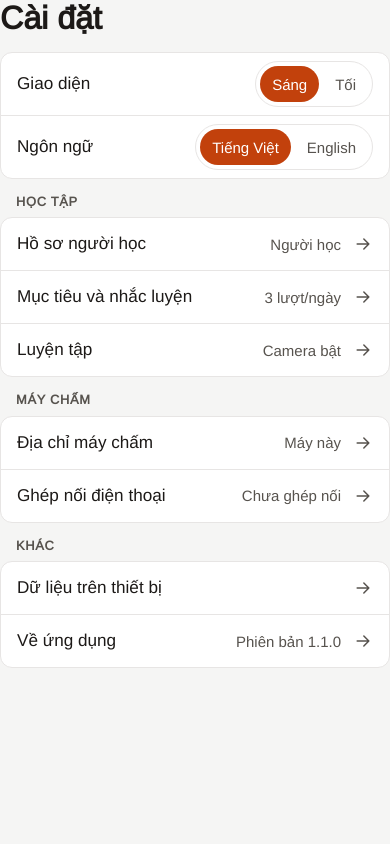
SettingsScreen › switches the theme, saves the server address and reports the check
Click the tab "Tối" at (346, 84), box 323,66 -> 368,102
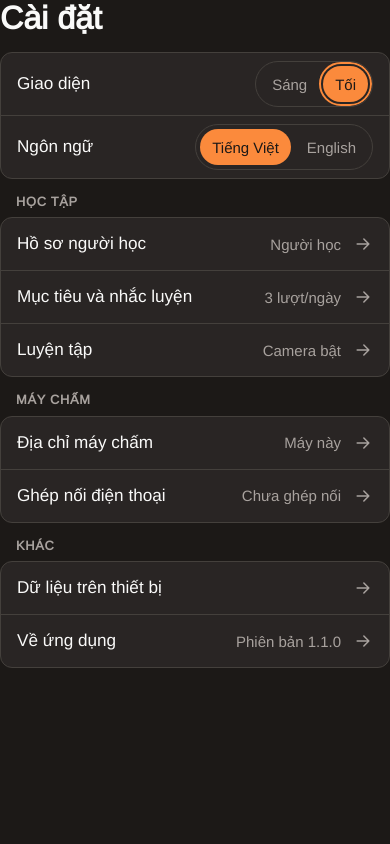
Click the button "Địa chỉ máy chấm Máy này" at (85, 442), box 1,417 -> 389,469
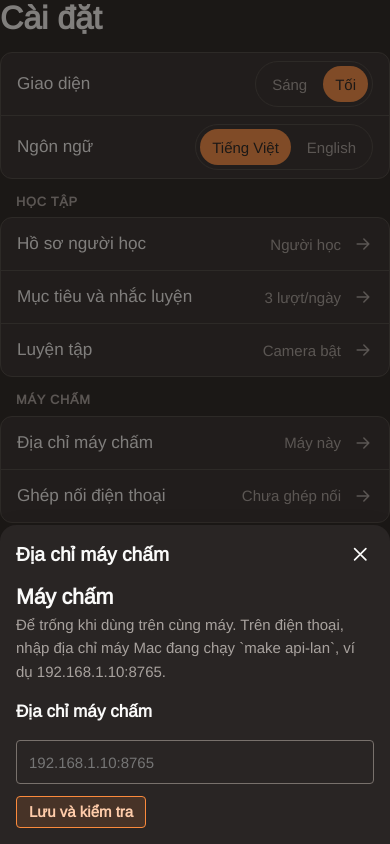
Type "192.168.1.9:8765" into the field labelled "Địa chỉ máy chấm" at (195, 762), box 16,740 -> 374,784
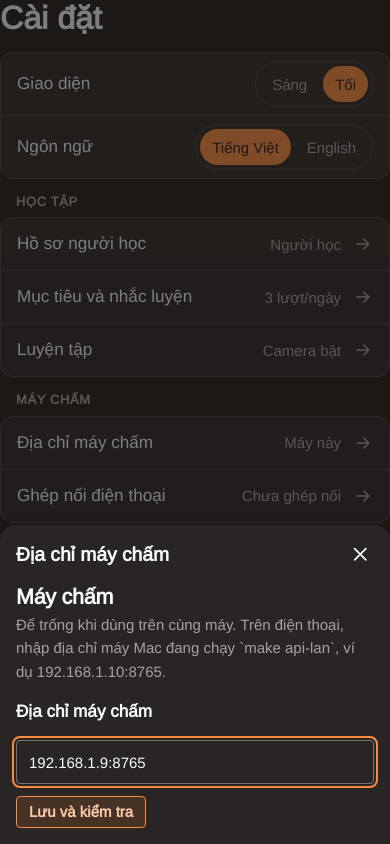
Click the button "Lưu và kiểm tra" at (81, 812), box 16,796 -> 146,828
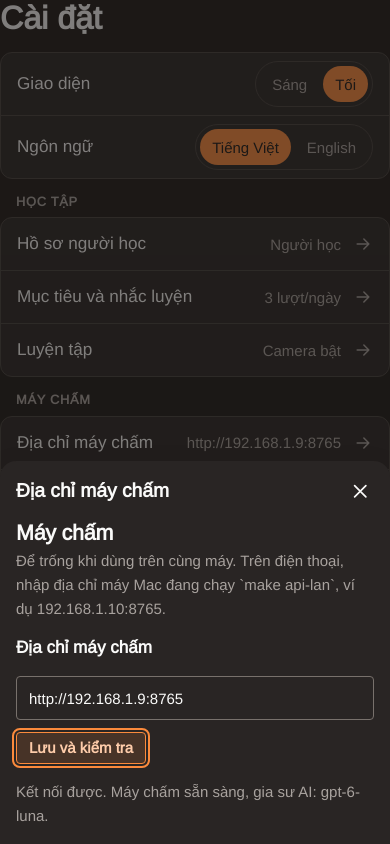
Expected: the message shows "gpt-6-luna", 16,783 -> 360,824
Expected: the text "http://192.168.1.9:8765" is shown, 187,432 -> 341,453
